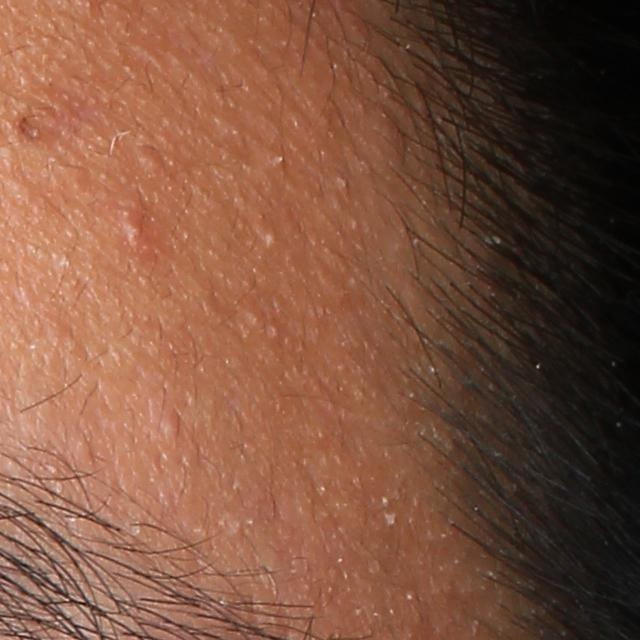comedo: (139, 145, 167, 178), (269, 147, 295, 171), (331, 170, 354, 195), (245, 308, 266, 330), (261, 224, 279, 248), (165, 417, 182, 442)
papule: (118, 214, 149, 247)
